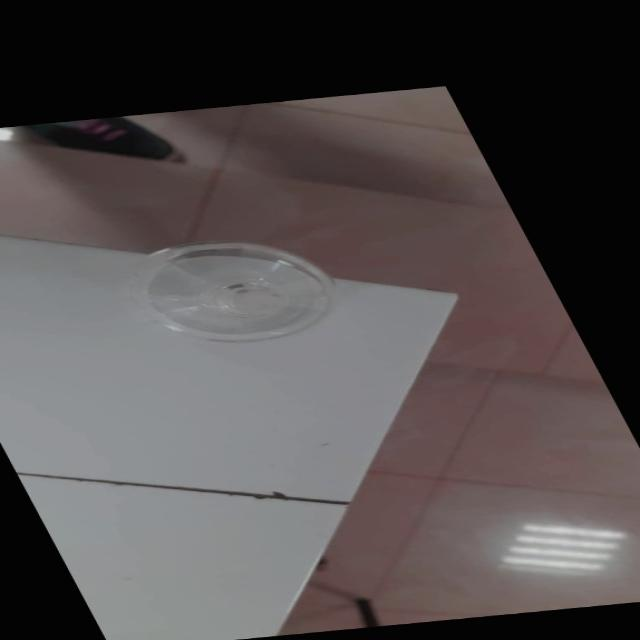Density Bottles for Solids: (103, 226, 363, 353)
